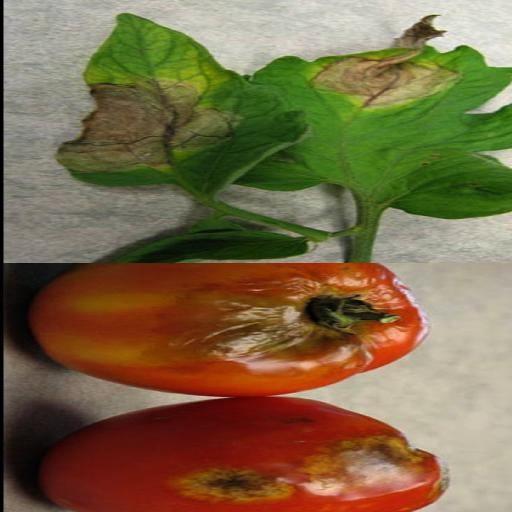Late Blight: (254, 16, 512, 218), (55, 12, 310, 187)
